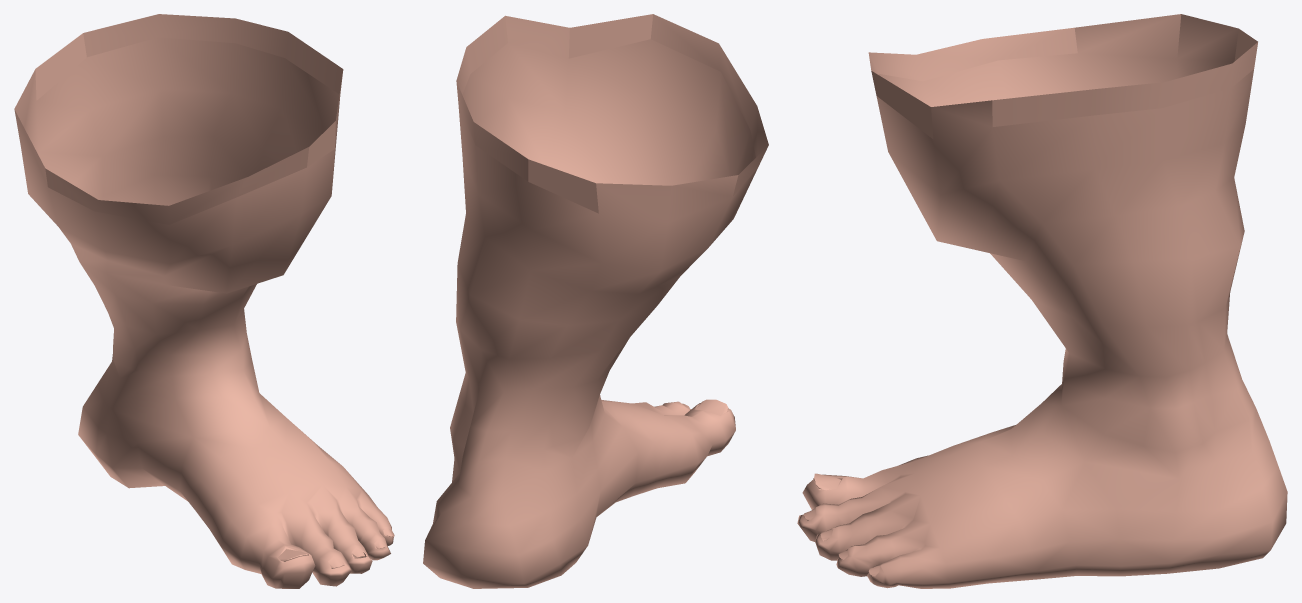
Rendered from L-foot.fbx.
The picture shows the model from 3 angles, left to right: view 1: azimuth 30°, elevation 25°; view 2: azimuth 150°, elevation 25°; view 3: azimuth 270°, elevation 25°; orthographic projection. The views are drawn at different scales.
Visible parts, largest first — view 1: pasted__polySurface1; view 2: pasted__polySurface1; view 3: pasted__polySurface1.
Boxes of the visible parts, <box> form: pasted__polySurface1: <box>14,14,394,588</box>; pasted__polySurface1: <box>423,14,768,588</box>; pasted__polySurface1: <box>797,14,1287,588</box>.
Size of the model in its own units: 2.68 by 4.22 by 3.78.
